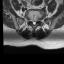CCS_stenosis: (33, 19, 34, 26)
LFS_stenosis: (36, 18, 38, 23)
LLS_normal: (34, 19, 36, 25)
RFS_stenosis: (30, 18, 31, 23)
RLS_normal: (31, 19, 33, 25)
